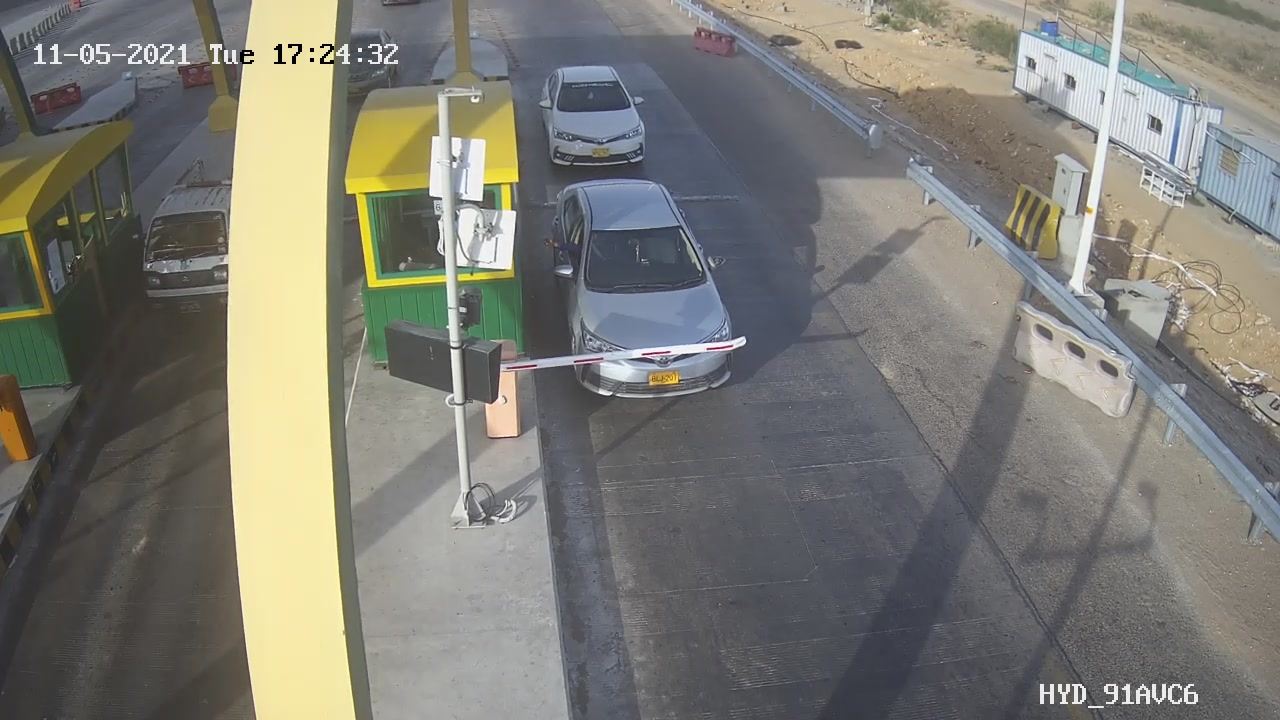F1: (529, 168, 770, 421), (524, 49, 668, 183)
